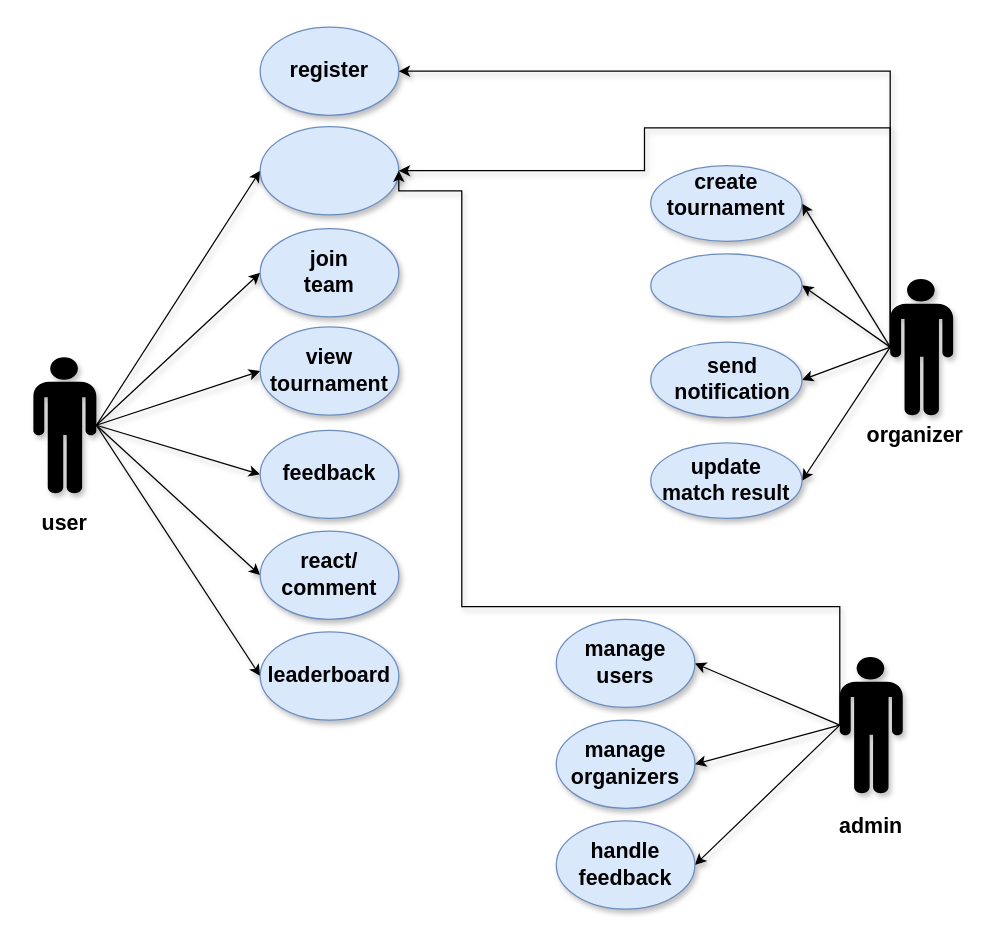
This 985x940 diagram has some shape labels left out. Here are the shapes that lost their labels. From the top down, the centre of each, then its label:
At (330,172): "login".
At (727,287): "manage team".
